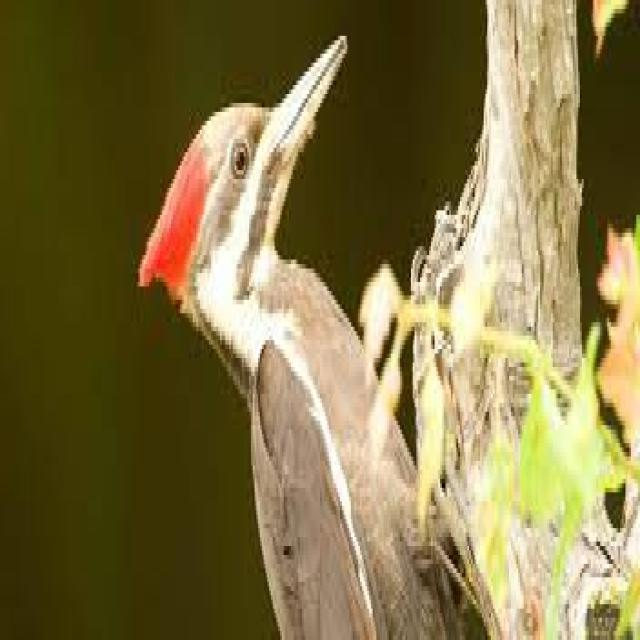Woodpecker: (134, 20, 442, 640)
